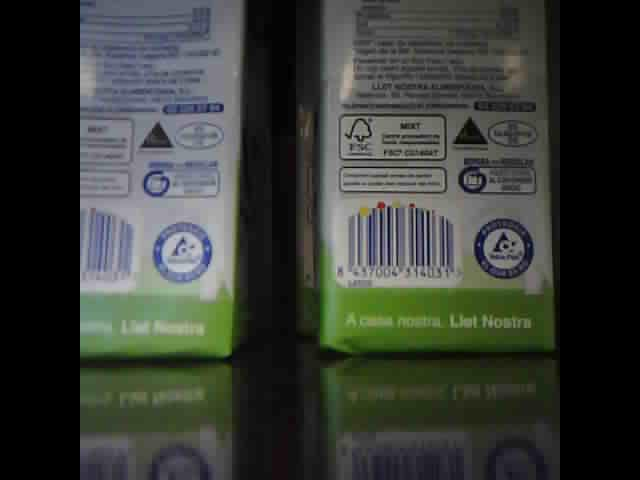leche: (322, 3, 552, 352), (82, 3, 252, 356), (295, 4, 318, 338)
